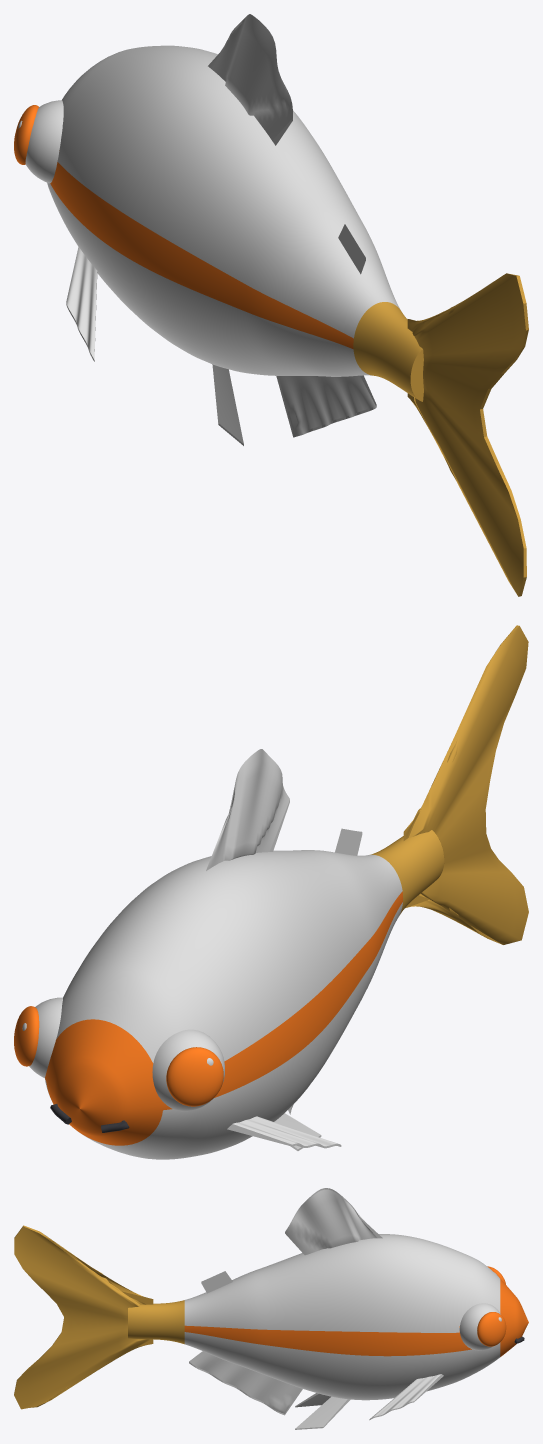
File: FISH_CANDYCORNTETRA.glb
3 views of the same model, one above another, from view 1: azimuth 30°, elevation 25°; view 2: azimuth 150°, elevation 25°; view 3: azimuth 270°, elevation 25° (orthographic). The views are drawn at different scales.
Parts seen in each view (by area): view 1: Body_body, Fin_Tail, Body_band, Fin_Dorsal, Body_tail, Fin_Anal, Eye_White, Fin_Pectoral, Fin_Pelvic, Eye_Iris; view 2: Body_body, Fin_Tail, Body_band, Fin_Dorsal, Eye_Iris (×2), Eye_White (×2), Body_tail, Fin_Pectoral; view 3: Body_body, Fin_Tail, Body_band, Fin_Dorsal, Fin_Anal, Body_tail, Eye_White, Fin_Pectoral, Eye_Iris, Fin_Pelvic, Fin_Adipose.
Boxes of the visible parts, x1,y1,x2,y2 form: Body_body: [47, 45, 400, 376]; Fin_Tail: [407, 273, 528, 596]; Body_band: [50, 150, 353, 349]; Fin_Dorsal: [208, 14, 292, 145]; Body_tail: [353, 302, 423, 401]; Fin_Anal: [276, 375, 376, 437]; Eye_White: [25, 100, 63, 183]; Fin_Pectoral: [66, 246, 97, 361]; Fin_Pelvic: [212, 364, 243, 445]; Eye_Iris: [14, 105, 38, 164]; Body_body: [45, 850, 402, 1159]; Fin_Tail: [403, 625, 528, 944]; Body_band: [45, 891, 403, 1145]; Fin_Dorsal: [206, 749, 289, 870]; Eye_Iris (×2): [14, 1006, 223, 1106]; Eye_White (×2): [29, 997, 224, 1111]; Body_tail: [370, 830, 444, 915]; Fin_Pectoral: [227, 1116, 341, 1148]; Body_body: [184, 1234, 500, 1400]; Fin_Tail: [14, 1225, 153, 1409]; Body_band: [184, 1279, 528, 1356]; Fin_Dorsal: [285, 1188, 382, 1255]; Fin_Anal: [189, 1351, 302, 1415]; Body_tail: [128, 1300, 184, 1344]; Eye_White: [459, 1303, 500, 1350]; Fin_Pectoral: [369, 1374, 443, 1420]; Eye_Iris: [477, 1312, 506, 1346]; Fin_Pelvic: [295, 1396, 350, 1429]; Fin_Adipose: [201, 1271, 232, 1293].
Size of the model in its own units: 0.394 by 0.6012 by 1.22.
